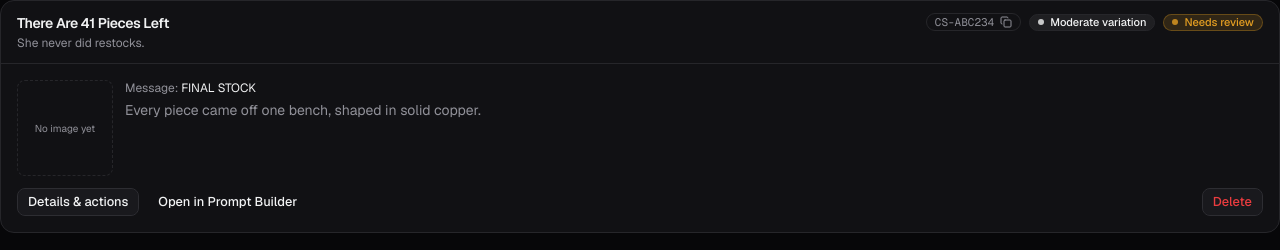
Test: Concepts — concept card › requires confirmation before deleting
The image size is (1280, 250).
Click the button "Delete": (1232, 202) [1202,188,1263,216]
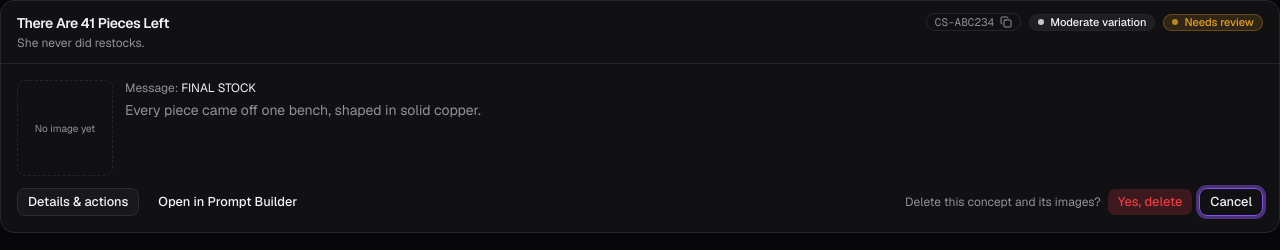
Expected: the text "Delete this concept and its images?" is shown, [905,194,1101,210]
